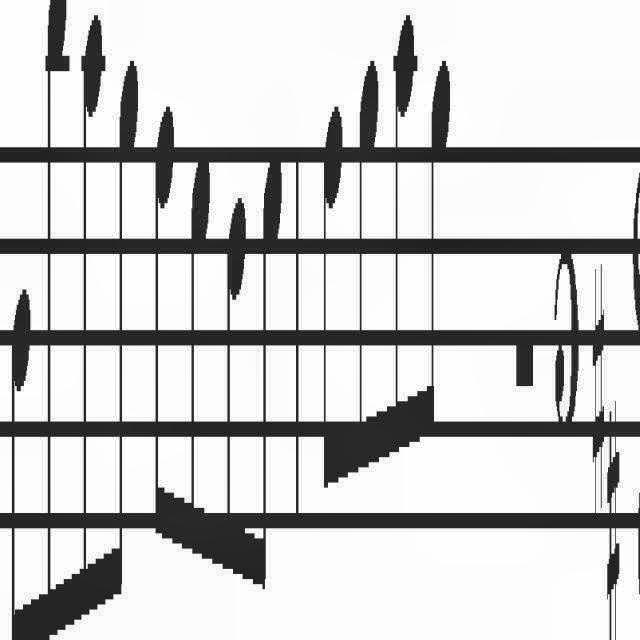Bass-clef: (627, 0, 640, 640), (639, 0, 640, 640)
Diez: (604, 391, 627, 640), (588, 269, 608, 535)
Eighth-note: (38, 0, 72, 640), (78, 7, 109, 629), (259, 79, 293, 634), (316, 52, 348, 536), (352, 14, 382, 522), (113, 31, 139, 614), (391, 1, 421, 503), (222, 149, 252, 623), (429, 4, 458, 483), (150, 78, 178, 558), (186, 129, 212, 603), (5, 295, 38, 640)
